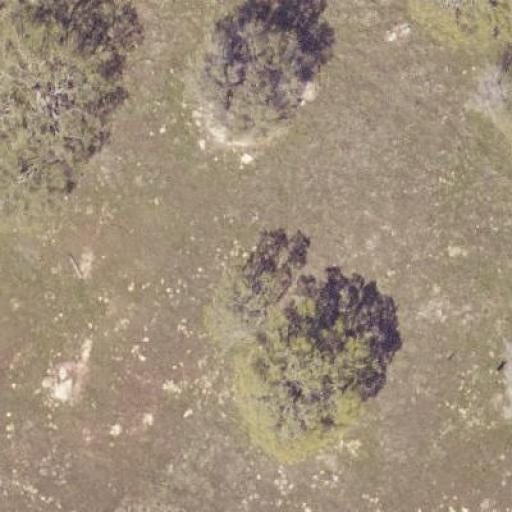tree-top: (225, 306, 404, 462), (176, 6, 332, 148), (0, 9, 122, 189), (204, 253, 302, 337), (405, 0, 512, 55)
